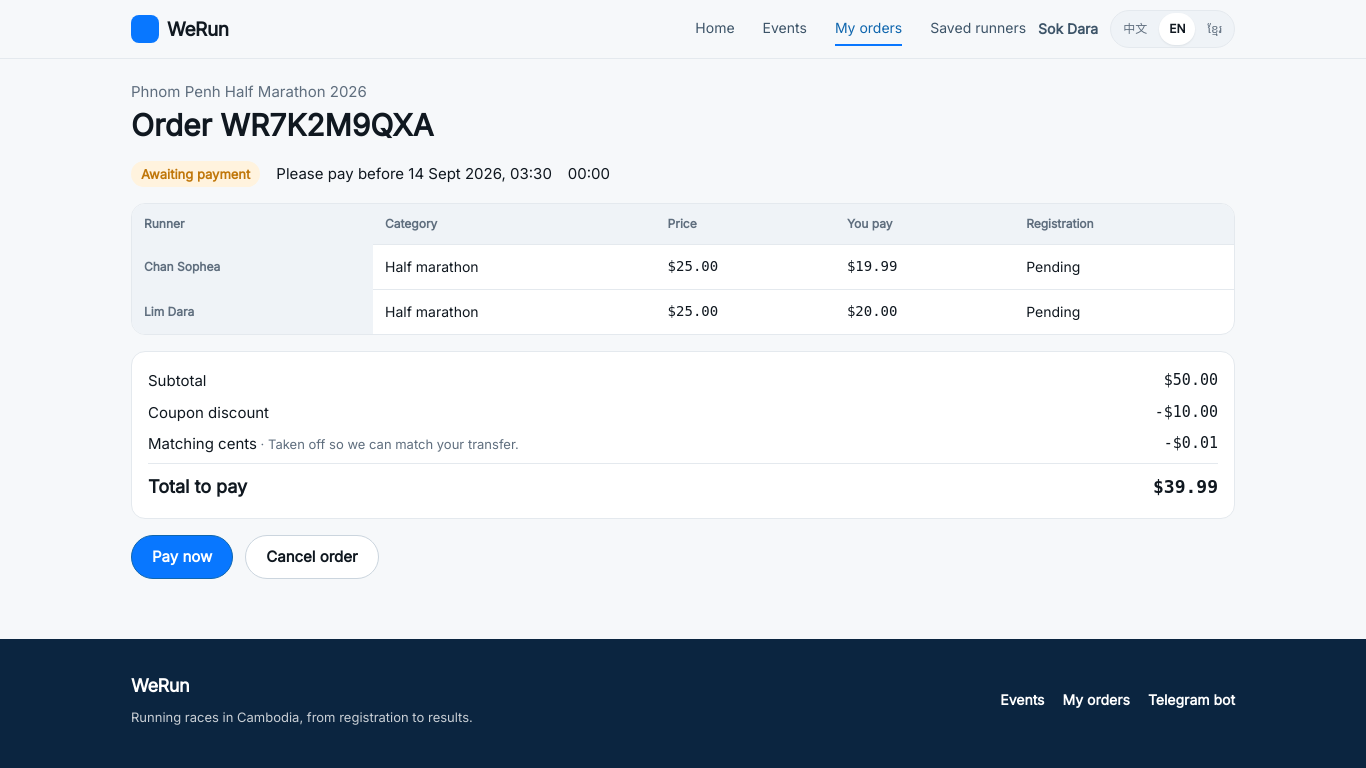
Scenario: OrderDetailPage › 取消失败时显示服务端文案
Click the button with test id "order-cancel" at [312, 557], box [245,535,379,579]
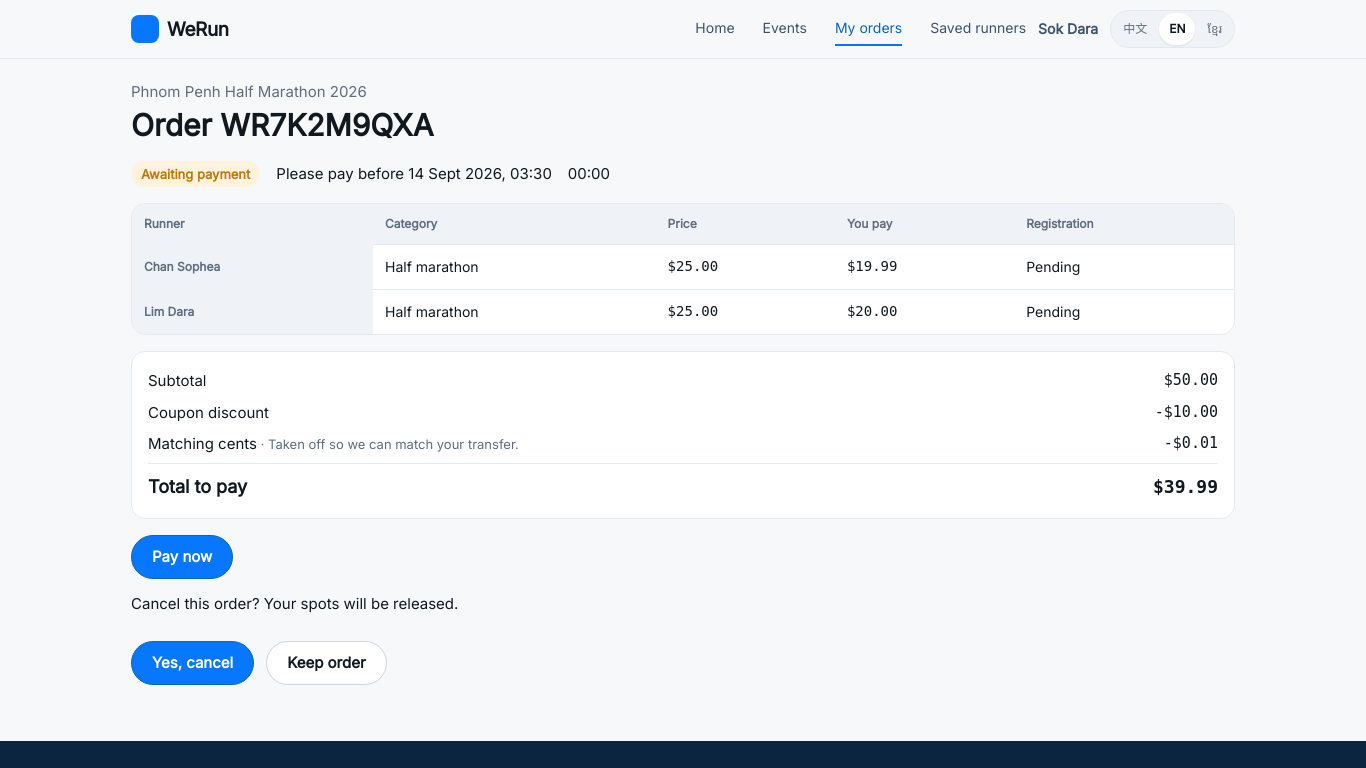
Click the button with test id "order-cancel-confirm" at [193, 663], box [131,641,254,685]
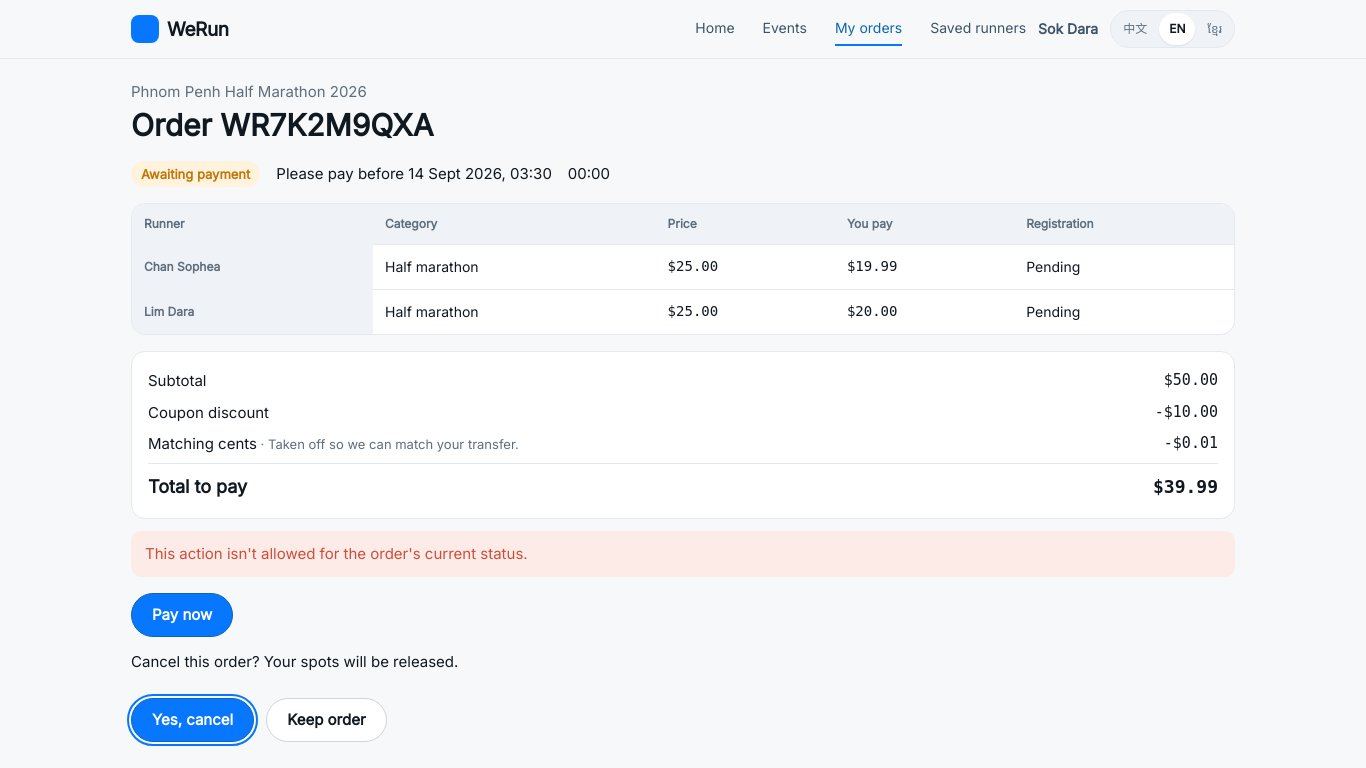
expect the message with test id "form-error" reads "This action isn't allowed for the order's current status.": met, box [145,544,528,563]
